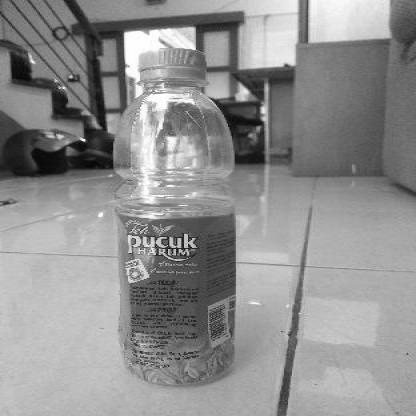plastic_bottles: (107, 43, 242, 393)
